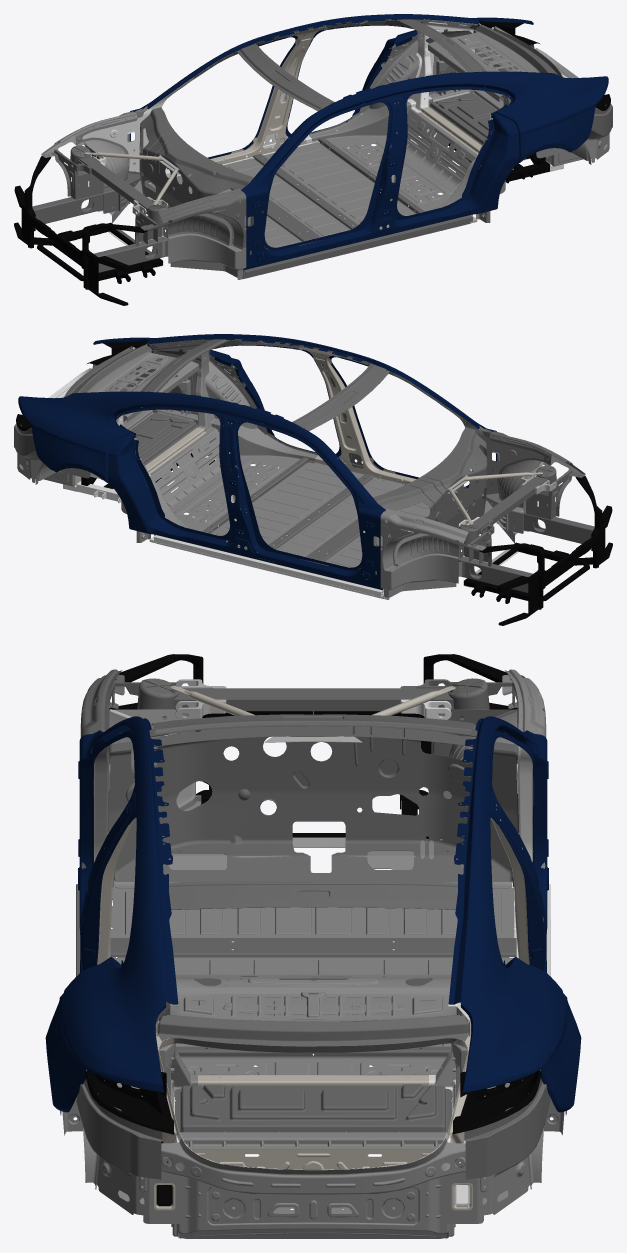
File: E-Car_Body_in_White.glb
3 views of the same model, one above another, from view 1: azimuth 30°, elevation 25°; view 2: azimuth 150°, elevation 25°; view 3: azimuth 270°, elevation 25° (orthographic). The views are drawn at different scales.
Visible parts, largest first — view 1: Mesh_51, Mesh_130, Mesh_133, Mesh_121, Mesh_52, Mesh_62, Mesh_101, Mesh_16, Mesh_124, Mesh_86, Mesh_3, Mesh_71 (+34 smaller); view 2: Mesh_52, Mesh_130, Mesh_133, Mesh_121, Mesh_51, Mesh_62, Mesh_118, Mesh_1, Mesh_124, Mesh_86, Mesh_18, Mesh_71 (+34 smaller); view 3: Mesh_133, Mesh_52, Mesh_51, Mesh_77, Mesh_129, Mesh_86, Mesh_122, Mesh_79, Mesh_72, Mesh_123, Mesh_103, Mesh_124 (+26 smaller).
Part boxes in pixels (x1,y1,x2,y2): Mesh_51: (241,71,608,270); Mesh_130: (326,108,476,211); Mesh_133: (139,107,253,207); Mesh_121: (263,142,415,224); Mesh_52: (130,14,533,169); Mesh_62: (14,155,147,305); Mesh_101: (162,231,246,277); Mesh_16: (233,27,328,160); Mesh_124: (223,158,349,236); Mesh_86: (428,32,539,101); Mesh_3: (242,215,472,278); Mesh_71: (237,44,334,110); Mesh_52: (18,391,385,590); Mesh_130: (150,428,299,531); Mesh_133: (373,427,487,527); Mesh_121: (211,462,363,544); Mesh_51: (93,334,496,488); Mesh_62: (479,475,612,625); Mesh_118: (380,551,464,597); Mesh_1: (298,347,393,480); Mesh_124: (277,478,403,556); Mesh_86: (87,352,198,421); Mesh_18: (154,535,384,598); Mesh_71: (292,364,389,430); Mesh_133: (107,726,519,881); Mesh_52: (448,716,581,1115); Mesh_51: (45,716,178,1115); Mesh_77: (143,1138,483,1238); Mesh_129: (175,1084,451,1132); Mesh_86: (170,974,456,1021); Mesh_122: (113,888,514,937); Mesh_79: (158,1012,468,1052); Mesh_72: (169,880,457,909); Mesh_123: (110,938,516,957); Mesh_103: (173,688,454,711); Mesh_124: (113,958,513,974).
Size of the model in its own units: 4.56 by 1.19 by 2.
114 materials, 14 textured.
